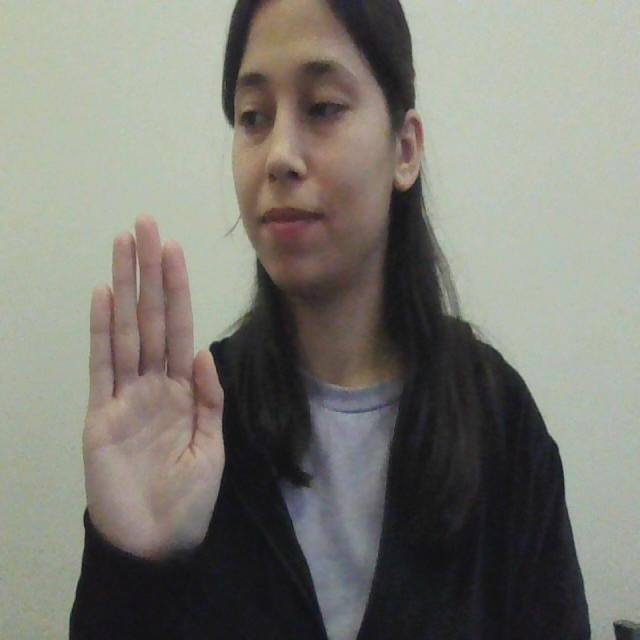Dur: (63, 209, 248, 586)
